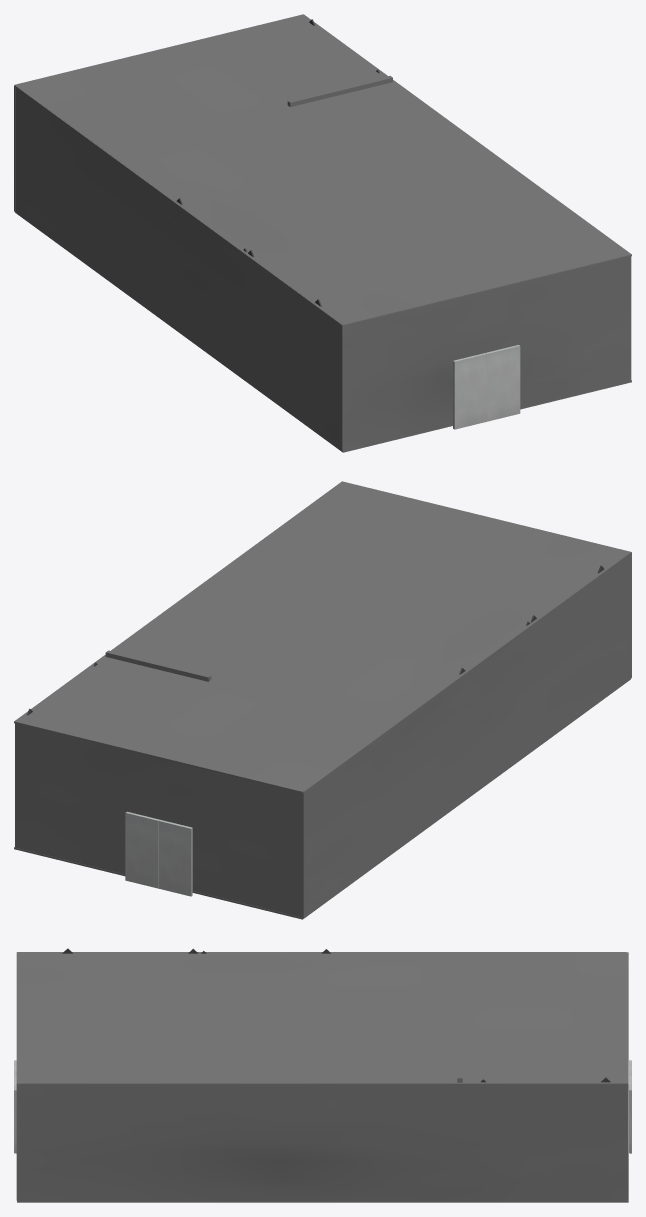
The model's file is FASE1_V5.fbx.
3 views of the same model, one above another, from view 1: azimuth 30°, elevation 25°; view 2: azimuth 150°, elevation 25°; view 3: azimuth 270°, elevation 25° (orthographic). The views are drawn at different scales.
Visible parts, largest first — view 1: CHAO.001, Cube.005, Cube.001, PortaSaida.002, PortaSaida.003, chao, Cube.009; view 2: CHAO.001, Cube.005, Cube.004, PortaSaida, PortaSaida.001, chao, Cube.009; view 3: CHAO.001, Cube.006, chao, Cube.005.
Boxes of the visible parts, bbox=[...] form: CHAO.001: bbox=[15, 14, 631, 325]; Cube.005: bbox=[15, 85, 342, 449]; Cube.001: bbox=[340, 255, 631, 451]; PortaSaida.002: bbox=[453, 353, 487, 429]; PortaSaida.003: bbox=[486, 345, 520, 421]; chao: bbox=[15, 212, 631, 452]; Cube.009: bbox=[287, 75, 392, 106]; CHAO.001: bbox=[14, 481, 630, 793]; Cube.005: bbox=[304, 552, 631, 916]; Cube.004: bbox=[15, 723, 305, 917]; PortaSaida: bbox=[158, 819, 192, 896]; PortaSaida.001: bbox=[125, 811, 159, 888]; chao: bbox=[14, 679, 630, 919]; Cube.009: bbox=[105, 650, 211, 681]; CHAO.001: bbox=[17, 952, 628, 1085]; Cube.006: bbox=[17, 1085, 626, 1200]; chao: bbox=[17, 1200, 628, 1202]; Cube.005: bbox=[17, 952, 626, 952].
Size of the model in its own units: 11243 by 5027 by 22286.
Materials: 13 (7 with a texture image).
